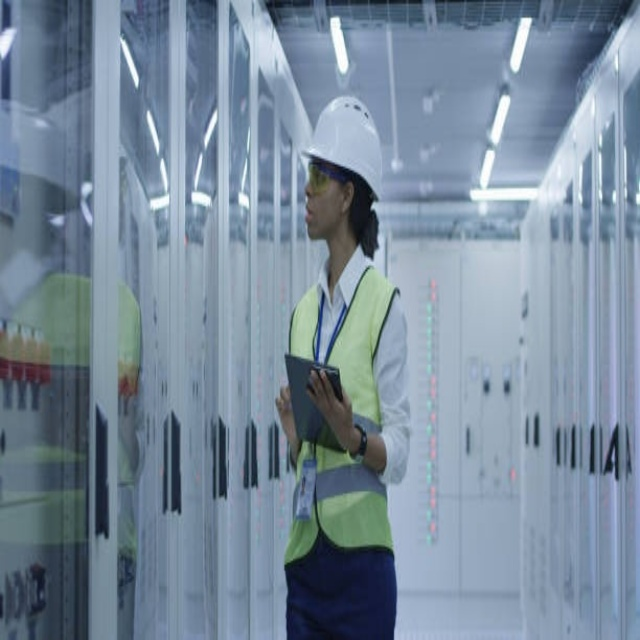Gafas: (306, 160, 350, 195)
Sin_guantes: (302, 367, 351, 442), (276, 382, 300, 451)
Sin_mascara: (303, 190, 324, 240)
